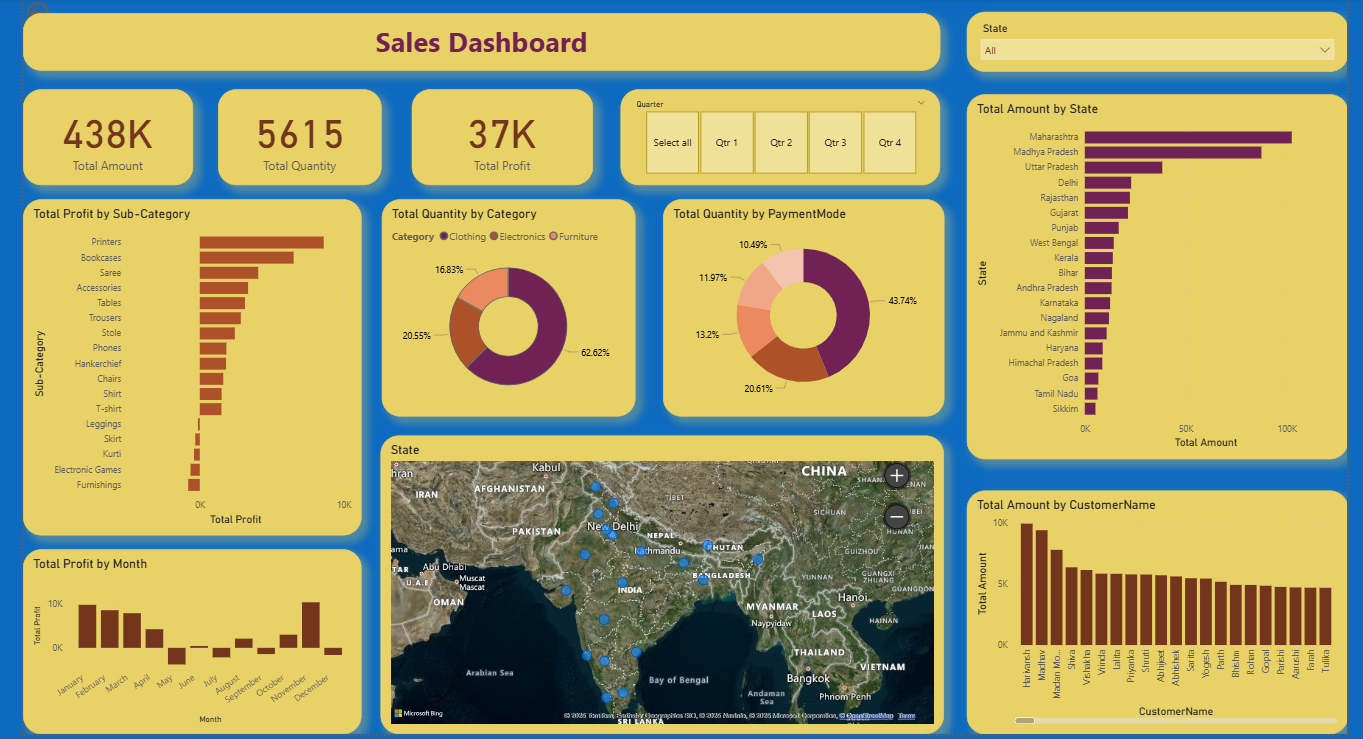

The dashboard page shown, as its layout file describes it:
{"tool":"powerbi","page":{"name":"Page 1","canvas":[1800,1000],"ordinal":0},"visuals":[{"type":"card","fields":{"Values":["Details.Total Amount"]},"box":[0,124,231,130.8],"z":0},{"type":"card","fields":{"Values":["Details.Total Quantity"]},"box":[264.9,124,222.5,130.8],"z":1000},{"type":"card","fields":{"Values":["Details.Total Profit"]},"box":[528.2,124,246.3,130.8],"z":2000},{"type":"slicer","fields":{"Values":["Orders.Order Date.Variation.Date Hierarchy.Quarter"]},"box":[811.8,124,434.8,130.8],"z":3000},{"type":"actionButton","box":[0,0,100,40],"z":4000},{"type":"slicer","fields":{"Values":["Orders.State"]},"box":[1282.3,18.7,518,81.5],"z":5000},{"type":"barChart","fields":{"Category":["Orders.State"],"Y":["Details.Total Amount"]},"box":[1282.3,130.8,518,495.9],"z":6000},{"type":"donutChart","fields":{"Category":["Details.Category"],"Y":["Details.Total Quantity"]},"box":[487.4,273.4,344.8,295.5],"z":7000},{"type":"clusteredColumnChart","fields":{"Category":["Orders.Order Date.Variation.Date Hierarchy.Month"],"Y":["Details.Total Profit"]},"box":[0,749,460.3,251.4],"z":8000},{"type":"clusteredColumnChart","fields":{"Category":["Orders.CustomerName"],"Y":["Details.Total Amount"]},"box":[1282.3,669.2,518,331.2],"z":9000},{"type":"donutChart","fields":{"Category":["Details.PaymentMode"],"Y":["Details.Total Quantity"]},"box":[869.6,273.4,382.1,295.5],"z":10000},{"type":"barChart","fields":{"Category":["Details.Sub-Category"],"Y":["Details.Total Profit"]},"box":[0,273.4,460.3,456.9],"z":11000},{"type":"textbox","box":[0,20.4,1246.6,78.1],"z":12000},{"type":"map","fields":{"Category":["Orders.State"]},"box":[485.7,594.4,766,405.9],"z":15000}]}

Visuals, with their boxes in screenshot pixels (x1, y1, x2, y2), scaled from the page's 1800x1000 canvas onto the 1363x739 screenshot:
card - Details.Total Amount: 0,92,175,188
card - Details.Total Quantity: 201,92,369,188
card - Details.Total Profit: 400,92,586,188
slicer - Orders.Order Date.Variation.Date Hierarchy.Quarter: 615,92,944,188
actionButton: 0,0,76,30
slicer - Orders.State: 971,14,1362,74
barChart - Orders.State x Details.Total Amount: 971,97,1362,463
donutChart - Details.Category x Details.Total Quantity: 369,202,630,420
clusteredColumnChart - Orders.Order Date.Variation.Date Hierarchy.Month x Details.Total Profit: 0,554,349,738
clusteredColumnChart - Orders.CustomerName x Details.Total Amount: 971,495,1362,738
donutChart - Details.PaymentMode x Details.Total Quantity: 658,202,948,420
barChart - Details.Sub-Category x Details.Total Profit: 0,202,349,540
textbox: 0,15,944,73
map - Orders.State: 368,439,948,738
